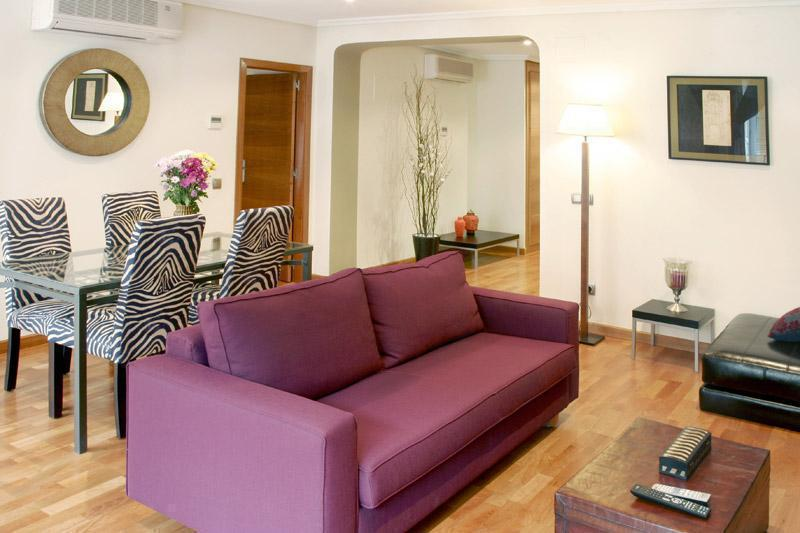Matera: (406, 74, 446, 249)
Otro Obstaculo: (543, 99, 624, 363)
